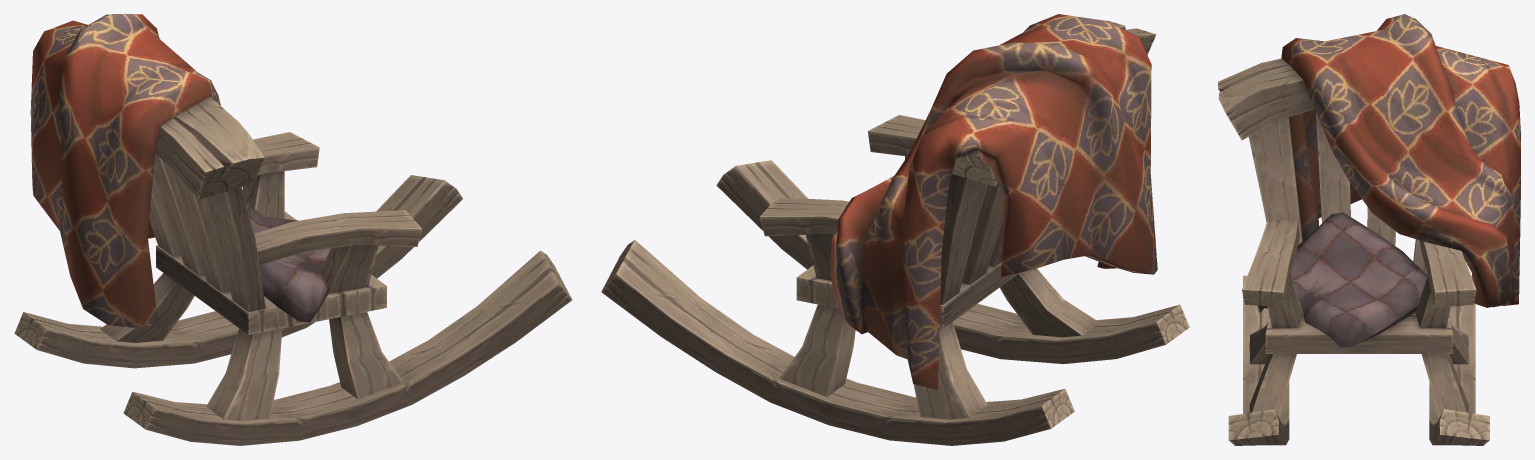
3 views of the same model, side by side, from view 1: azimuth 30°, elevation 25°; view 2: azimuth 150°, elevation 25°; view 3: azimuth 270°, elevation 25° (orthographic). The views are drawn at different scales.
Size of the model in its own units: 2.19 by 1.77 by 1.46.
Materials: 1 (1 with a texture image).
